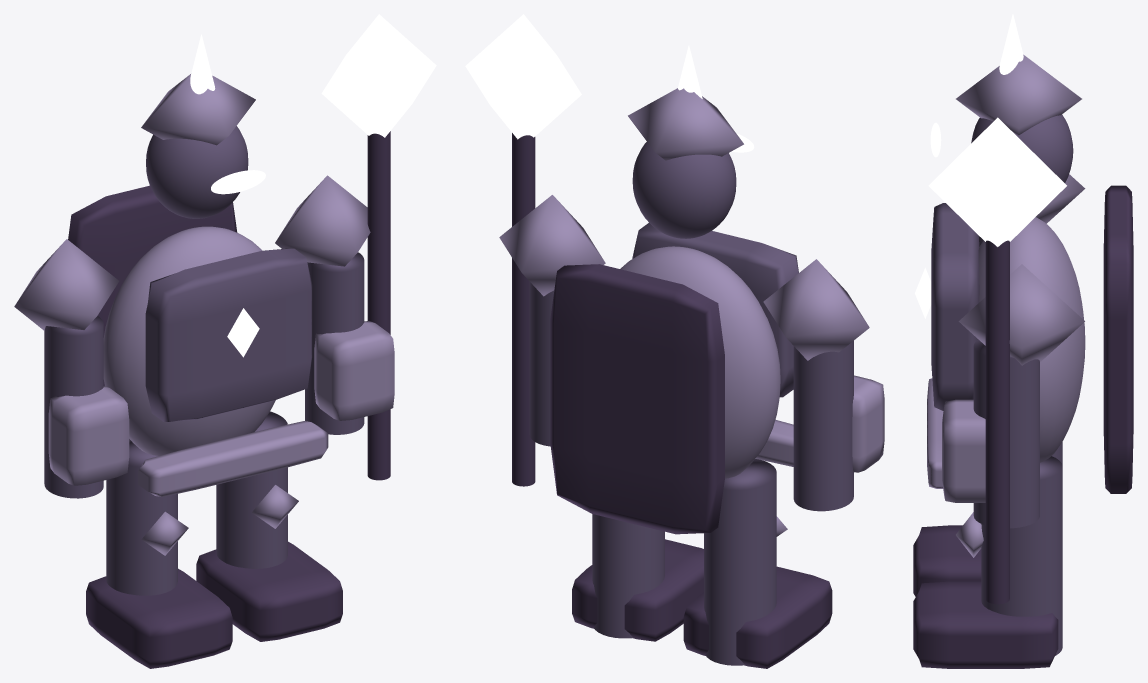
File: summoner.glb
The picture shows the model from 3 angles, left to right: view 1: azimuth 30°, elevation 25°; view 2: azimuth 150°, elevation 25°; view 3: azimuth 270°, elevation 25°; orthographic projection. The views are drawn at different scales.
Parts seen in each view (by area): view 1: breastplate, torso, leftBoot, rightBoot, ExtraBelt, staffOrb, cape, leftLeg, ExtraForearmL, ExtraForearmR, head, staff (+11 smaller); view 2: cape, torso, leftLeg, arm-1, staffOrb, head, leftBoot, rightLeg, staff, shoulder-1, rightBoot, breastplate (+6 smaller); view 3: rightBoot, staffOrb, cape, staff, breastplate, torso, rightLeg, arm1, shoulder1, helmet, ExtraForearmR, leftBoot (+6 smaller).
Part boxes in pixels (x1=…): breastplate: x1=145, y1=248, x2=312, y2=421; torso: x1=103, y1=226, x2=275, y2=455; leftBoot: x1=86, y1=568, x2=232, y2=668; rightBoot: x1=196, y1=541, x2=342, y2=641; ExtraBelt: x1=138, y1=421, x2=328, y2=496; staffOrb: x1=321, y1=14, x2=436, y2=137; cape: x1=68, y1=185, x2=237, y2=385; leftLeg: x1=106, y1=439, x2=177, y2=595; ExtraForearmL: x1=48, y1=386, x2=129, y2=485; ExtraForearmR: x1=314, y1=321, x2=394, y2=420; head: x1=146, y1=126, x2=248, y2=218; staff: x1=367, y1=131, x2=390, y2=480; cape: x1=550, y1=264, x2=724, y2=534; torso: x1=620, y1=246, x2=780, y2=478; leftLeg: x1=704, y1=459, x2=776, y2=665; arm-1: x1=793, y1=341, x2=853, y2=511; staffOrb: x1=465, y1=14, x2=581, y2=139; head: x1=632, y1=142, x2=736, y2=238; leftBoot: x1=683, y1=566, x2=832, y2=668; rightLeg: x1=592, y1=514, x2=664, y2=638; staff: x1=512, y1=133, x2=535, y2=486; shoulder-1: x1=763, y1=259, x2=869, y2=360; rightBoot: x1=572, y1=539, x2=703, y2=641; breastplate: x1=632, y1=223, x2=798, y2=397; rightBoot: x1=913, y1=581, x2=1058, y2=668; staffOrb: x1=928, y1=117, x2=1066, y2=246; cape: x1=1103, y1=185, x2=1133, y2=493; staff: x1=985, y1=240, x2=1009, y2=604; breastplate: x1=931, y1=203, x2=979, y2=410; torso: x1=978, y1=217, x2=1085, y2=462; rightLeg: x1=981, y1=456, x2=1062, y2=655; arm1: x1=973, y1=339, x2=1039, y2=528; shoulder1: x1=958, y1=264, x2=1084, y2=365; helmet: x1=956, y1=54, x2=1081, y2=135; ExtraForearmR: x1=942, y1=399, x2=985, y2=502; leftBoot: x1=913, y1=525, x2=981, y2=596.
Bounding box in the file's own units: 1.64 × 2.22 × 0.73.
